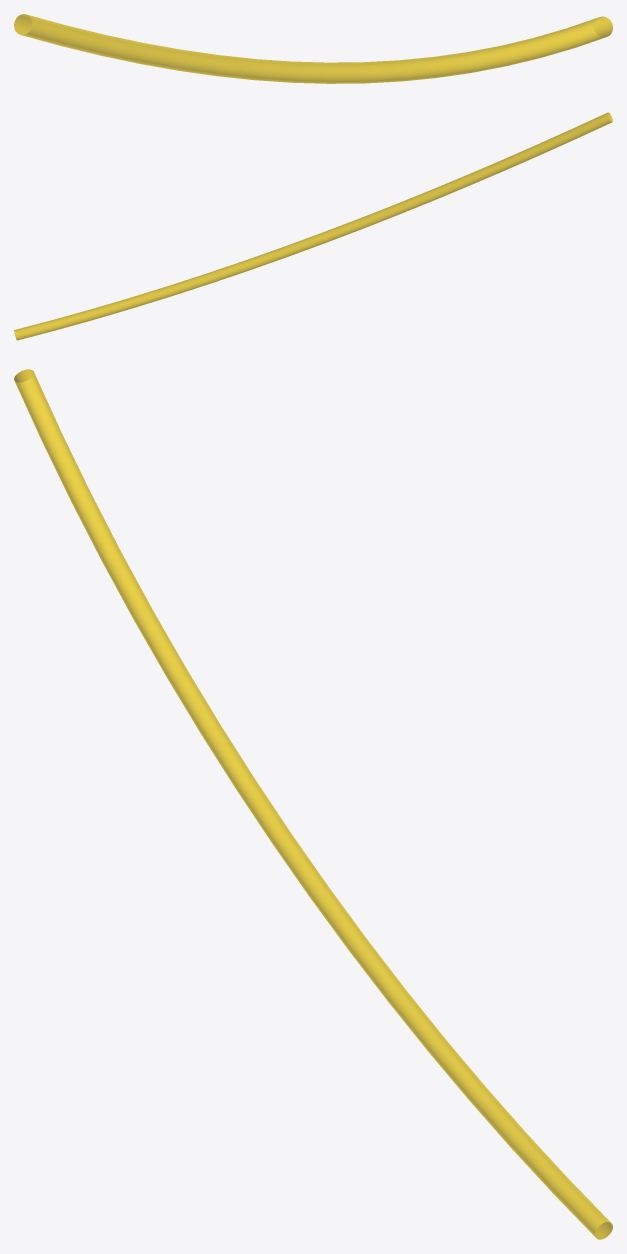
The model's file is Event_419990632_track_4.fbx.
3 renders of one model, top to bottom at view 1: azimuth 30°, elevation 25°; view 2: azimuth 150°, elevation 25°; view 3: azimuth 270°, elevation 25°, orthographic. The views are drawn at different scales.
Visible parts, largest first — view 1: Model; view 2: Model; view 3: Model.
Part boxes in pixels (x1=…): Model: x1=14, y1=14, x2=612, y2=83; Model: x1=14, y1=112, x2=612, y2=340; Model: x1=14, y1=369, x2=612, y2=1239.
Bounding box in the file's own units: 1.9 × 0.9151 × 1.11.
